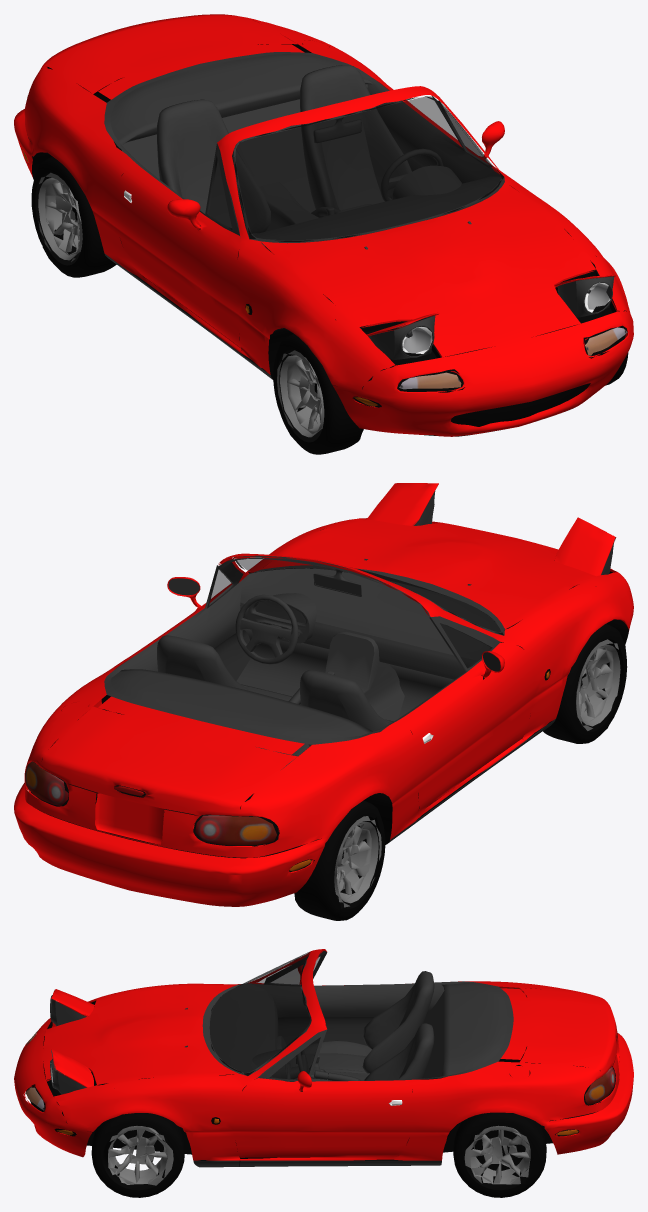
The model's file is miata.glb.
The picture shows the model from 3 angles, top to bottom: view 1: azimuth 30°, elevation 25°; view 2: azimuth 150°, elevation 25°; view 3: azimuth 270°, elevation 25°; orthographic projection. The views are drawn at different scales.
Parts seen in each view (by area): view 1: car_q; view 2: car_q; view 3: car_q.
Part boxes in pixels (x1,y1,x2,y2): car_q: (14,14,633,454); car_q: (14,483,633,920); car_q: (14,949,633,1197).
Size of the model in its own units: 124 by 80.21 by 266.
12 materials, 1 textured.
